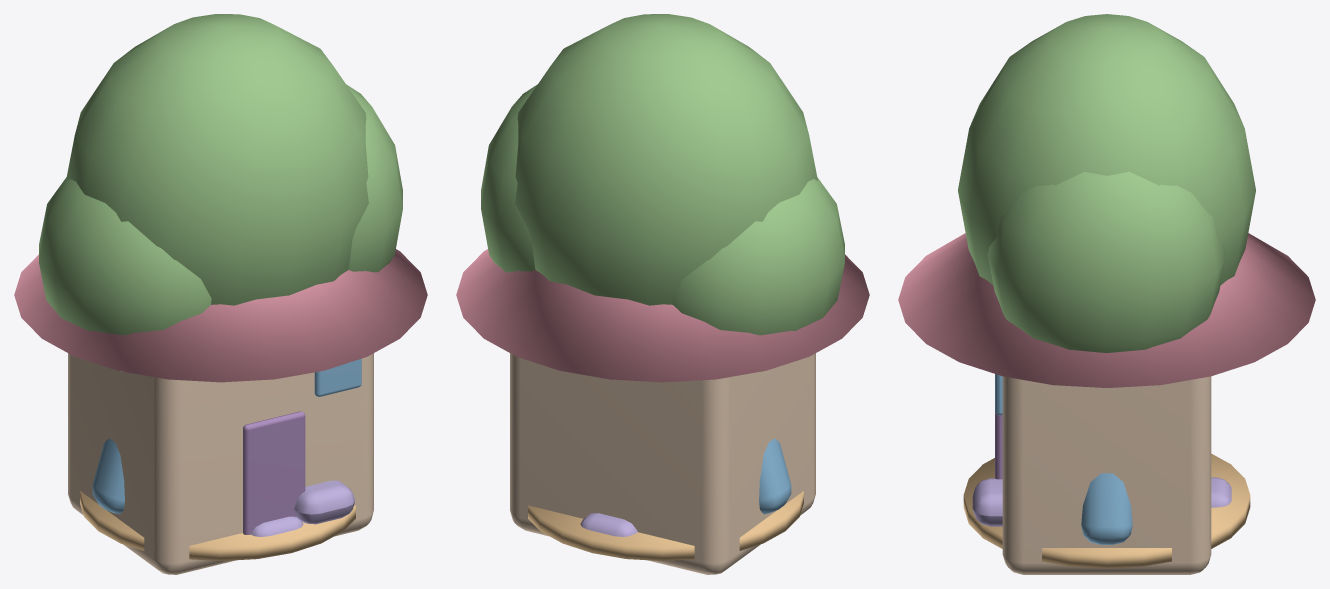
Rendered from toybox.glb.
The picture shows the model from 3 angles, left to right: view 1: azimuth 30°, elevation 25°; view 2: azimuth 150°, elevation 25°; view 3: azimuth 270°, elevation 25°; orthographic projection.
Visible parts, largest first — view 1: tree, house, hat, scarf, coat; view 2: tree, house, hat, coat, scarf; view 3: tree, house, hat, coat, scarf.
Boxes of the visible parts, <box> form: tree: <box>39,14,402,371</box>; house: <box>14,249,427,574</box>; hat: <box>80,491,355,560</box>; scarf: <box>250,480,354,536</box>; coat: <box>92,438,124,514</box>; tree: <box>481,14,844,371</box>; house: <box>456,249,869,574</box>; hat: <box>528,491,803,560</box>; coat: <box>759,438,791,514</box>; scarf: <box>580,513,637,536</box>; tree: <box>958,14,1255,352</box>; house: <box>898,233,1315,574</box>; hat: <box>963,453,1250,568</box>; coat: <box>1081,473,1132,544</box>; scarf: <box>972,477,1231,526</box>.
Size of the model in its own units: 1.4 by 1.99 by 1.4.
